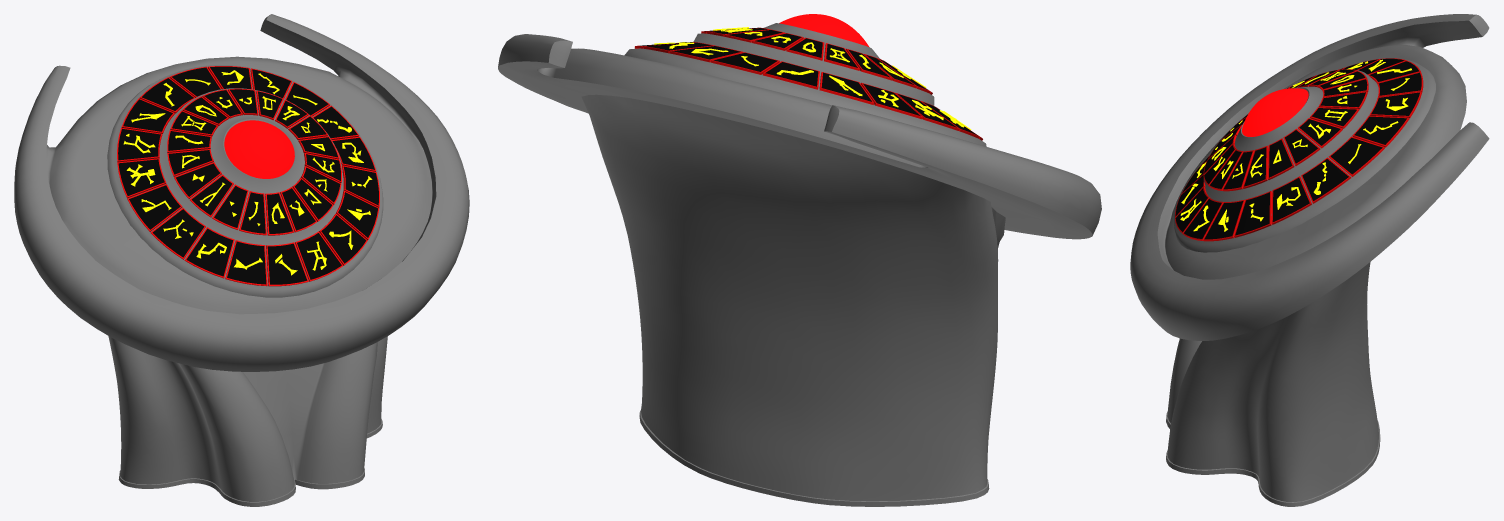
Rendered from DHD.fbx.
The picture shows the model from 3 angles, left to right: view 1: azimuth 30°, elevation 25°; view 2: azimuth 150°, elevation 25°; view 3: azimuth 270°, elevation 25°; orthographic projection. The views are drawn at different scales.
Parts seen in each view (by area): view 1: DHD_Base, DHD_Dome, Glyph_8_Scorpius, Glyph_19_Scultor, Glyph_4_Centaurus, Glyph_3_Boötes, Glyph_31_Monoceros, Glyph_2_Virgo, Glyph_20_Pisces, Glyph_18_Pegasus, Glyph_12_Aquila, Glyph_10_Scutum (+28 smaller); view 2: DHD_Base, DHD_Dome, Glyph_6_SerpensCaput, Glyph_21_Andromeda, Glyph_37_LeoMinor, Glyph_18_Pegasus, Glyph_5_Libra; view 3: DHD_Base, DHD_Dome, Glyph_33_Hydra, Glyph_11_Sagittarius, Glyph_23_Aries, Glyph_36_Sextans, Glyph_28_Eridanus, Glyph_10_Scutum, Glyph_5_Libra, Glyph_20_Pisces, Glyph_37_LeoMinor, Glyph_25_Cetus (+12 smaller).
Boxes of the visible parts, x1=… form: DHD_Base: x1=14, y1=14, x2=469, y2=506; DHD_Dome: x1=210, y1=114, x2=304, y2=194; Glyph_8_Scorpius: x1=184, y1=227, x2=234, y2=278; Glyph_19_Scultor: x1=225, y1=240, x2=267, y2=286; Glyph_4_Centaurus: x1=150, y1=208, x2=205, y2=259; Glyph_3_Boötes: x1=266, y1=242, x2=308, y2=286; Glyph_31_Monoceros: x1=127, y1=184, x2=182, y2=231; Glyph_2_Virgo: x1=295, y1=231, x2=343, y2=281; Glyph_20_Pisces: x1=319, y1=213, x2=367, y2=265; Glyph_18_Pegasus: x1=117, y1=127, x2=162, y2=162; Glyph_12_Aquila: x1=117, y1=158, x2=166, y2=198; Glyph_10_Scutum: x1=336, y1=190, x2=379, y2=239; DHD_Base: x1=498, y1=33, x2=1101, y2=506; DHD_Dome: x1=764, y1=14, x2=879, y2=58; Glyph_6_SerpensCaput: x1=762, y1=61, x2=819, y2=89; Glyph_21_Andromeda: x1=819, y1=72, x2=874, y2=104; Glyph_37_LeoMinor: x1=710, y1=52, x2=779, y2=74; Glyph_18_Pegasus: x1=860, y1=82, x2=922, y2=119; Glyph_5_Libra: x1=669, y1=45, x2=743, y2=62; DHD_Base: x1=1130, y1=14, x2=1489, y2=506; DHD_Dome: x1=1234, y1=86, x2=1323, y2=151; Glyph_33_Hydra: x1=1301, y1=157, x2=1351, y2=203; Glyph_11_Sagittarius: x1=1271, y1=176, x2=1311, y2=224; Glyph_23_Aries: x1=1328, y1=136, x2=1384, y2=176; Glyph_36_Sextans: x1=1234, y1=191, x2=1271, y2=237; Glyph_28_Eridanus: x1=1352, y1=115, x2=1409, y2=147; Glyph_10_Scutum: x1=1203, y1=199, x2=1245, y2=241; Glyph_5_Libra: x1=1369, y1=91, x2=1421, y2=118; Glyph_20_Pisces: x1=1183, y1=198, x2=1223, y2=240; Glyph_37_LeoMinor: x1=1377, y1=72, x2=1423, y2=97; Glyph_25_Cetus: x1=1283, y1=128, x2=1320, y2=165.
Bounding box in the file's own units: 1.63 × 1.29 × 1.14.
